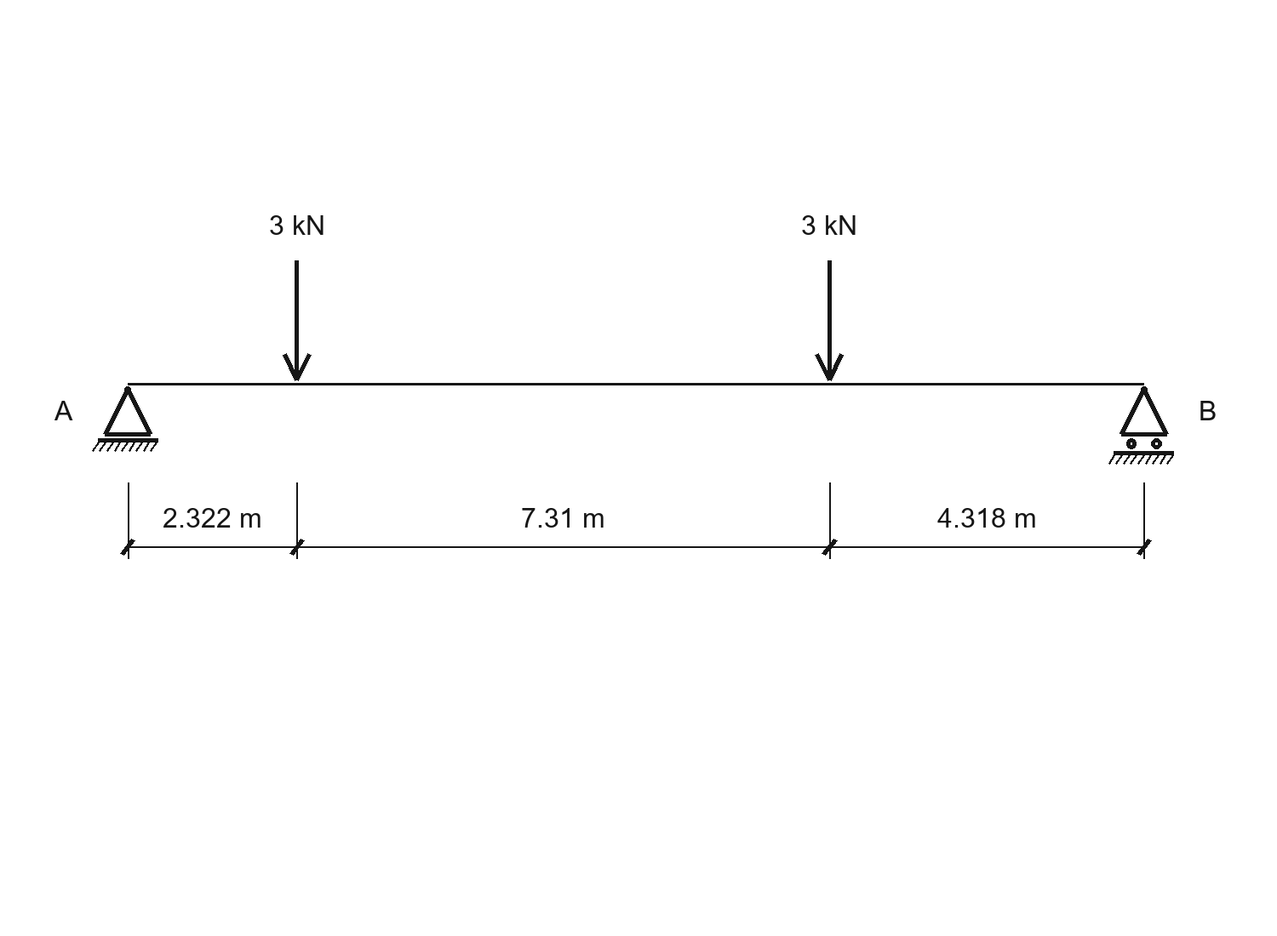pin_support: (92, 386, 158, 452)
point_load: (283, 260, 312, 381), (815, 260, 844, 381)
roller_support: (1108, 386, 1174, 465)
